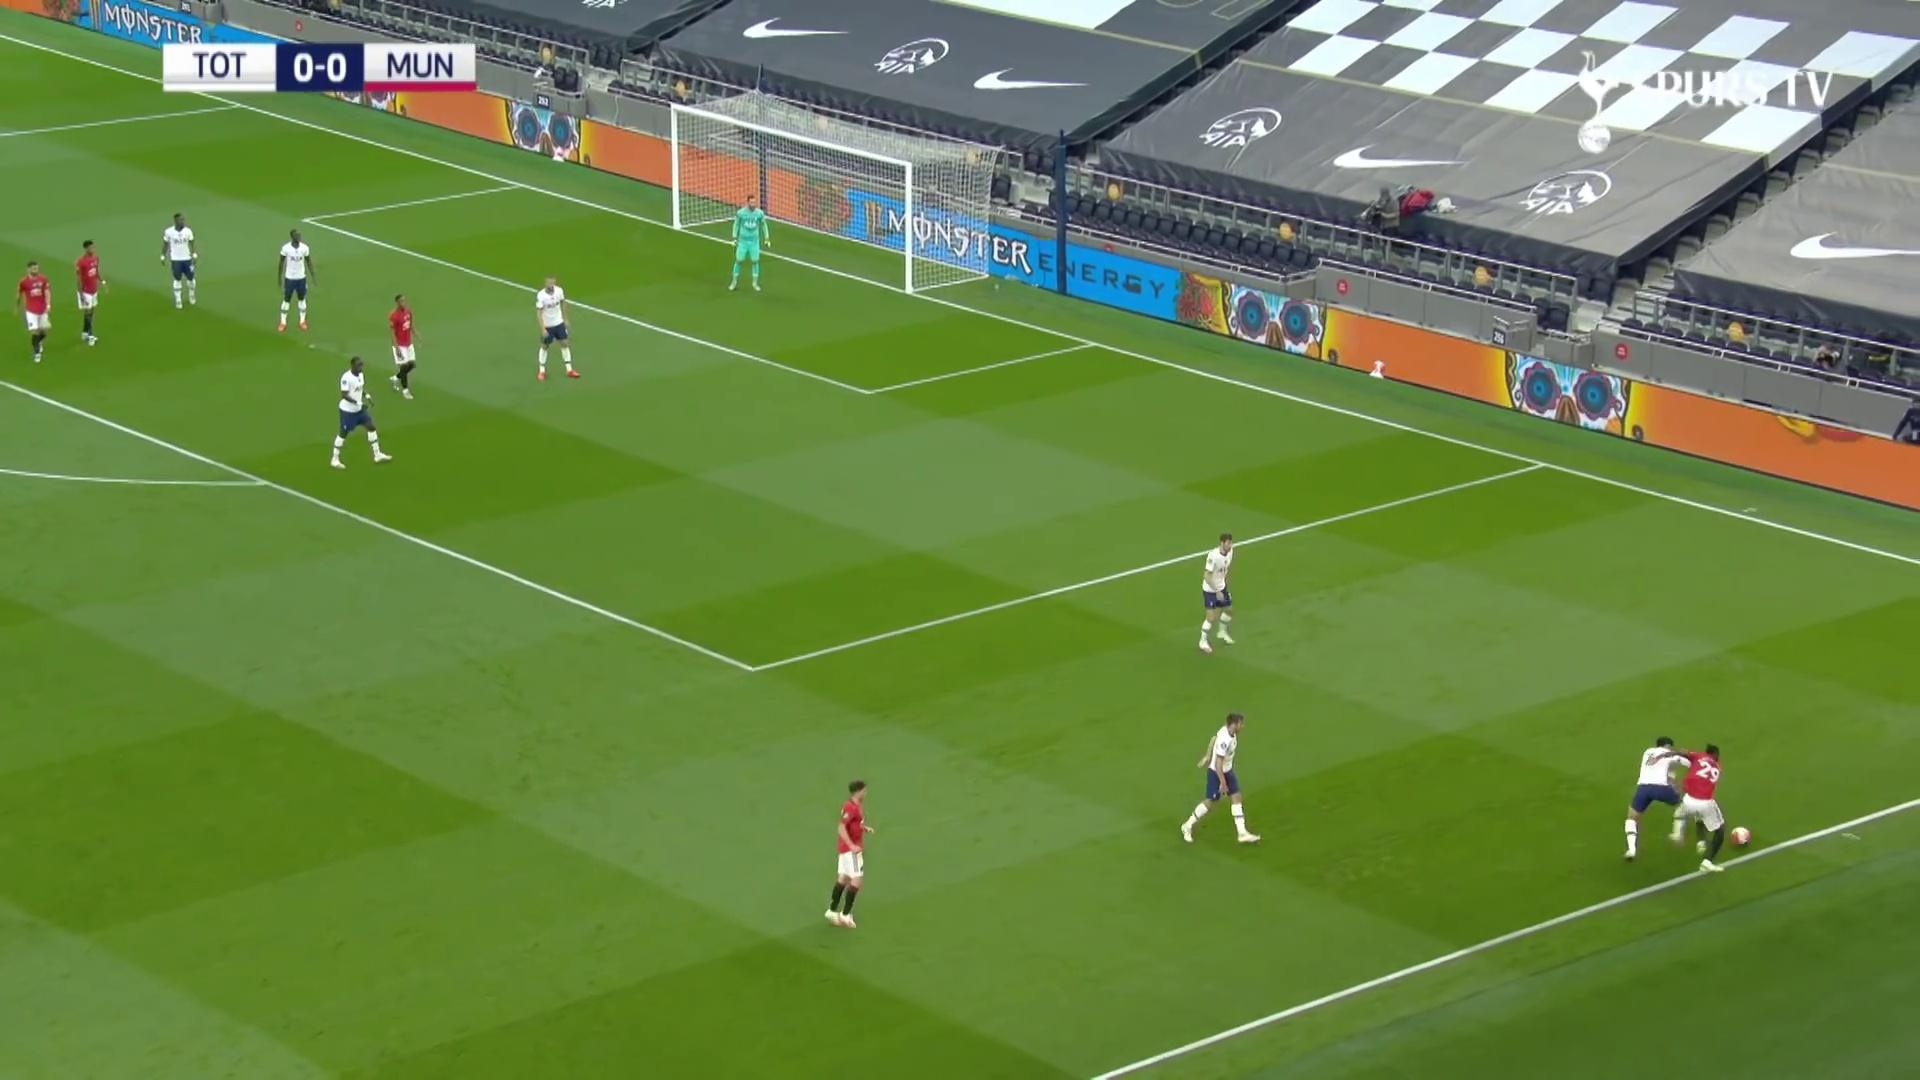ball: (1732, 825, 1751, 846)
